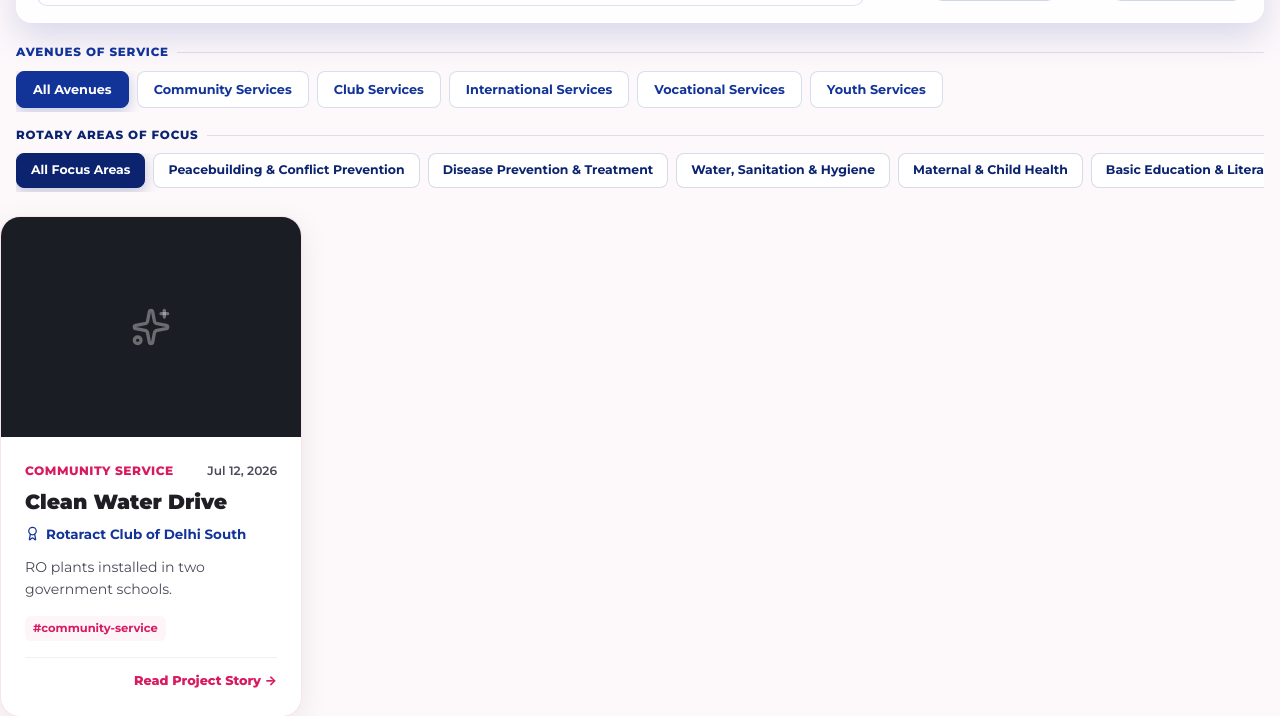
Test: ClubInitiativesList › renders the impact reach only when the detail endpoint returns a real number
(page scrolled)
Click the heading "Clean Water Drive" at (126, 501), box [25,489,227,514]
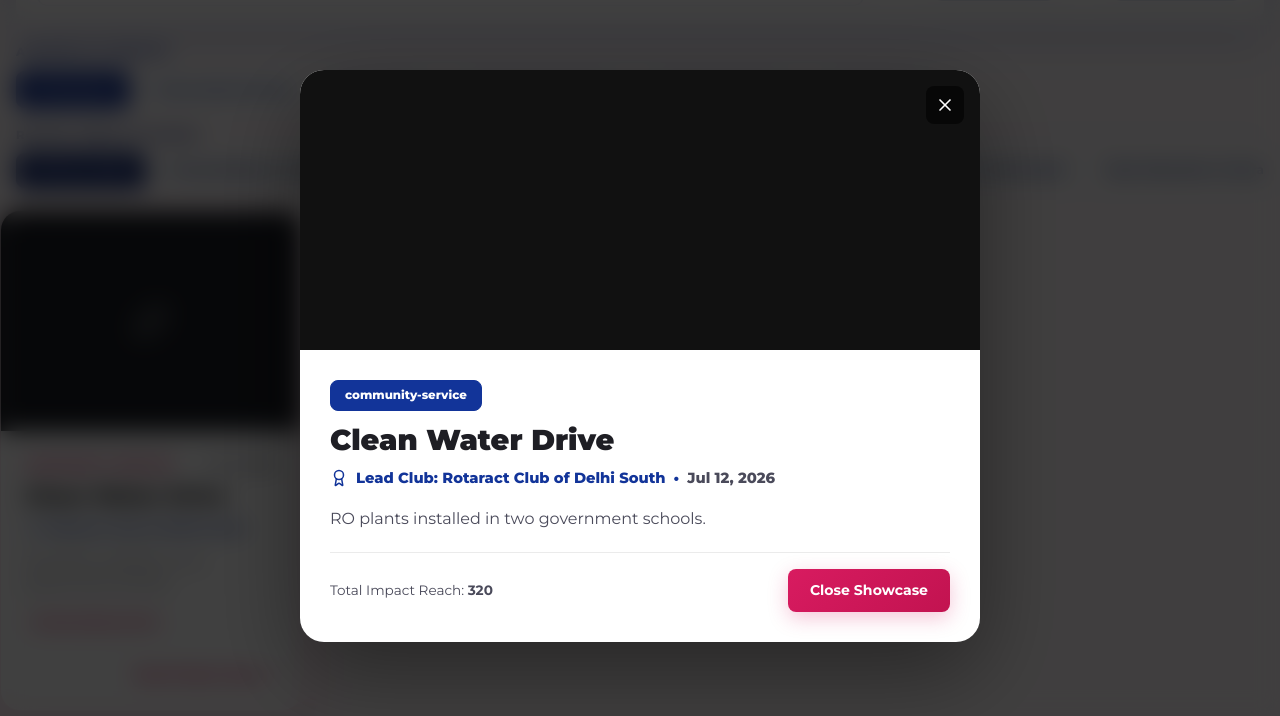
Now the text "Total Impact Reach: 320" is shown, box [330,579,493,602]
Now the text "320" is shown, box [468,582,493,598]
